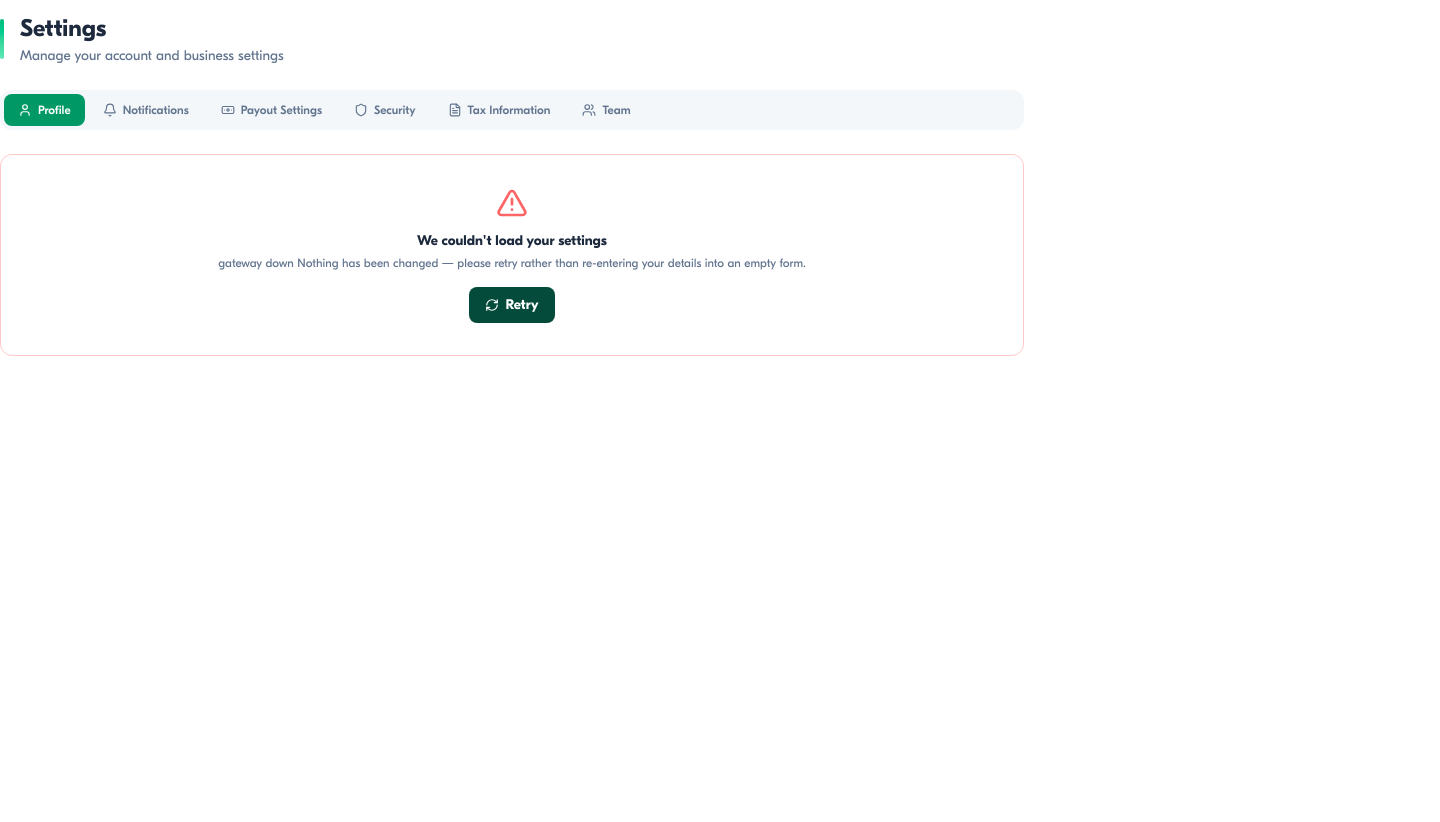
when the settings fetch fails › retries when asked, and renders the forms once the load succeeds
Expected: the message is shown, [0,154,1024,356]
Click the button "Retry": [512, 305] box [469,287,555,323]
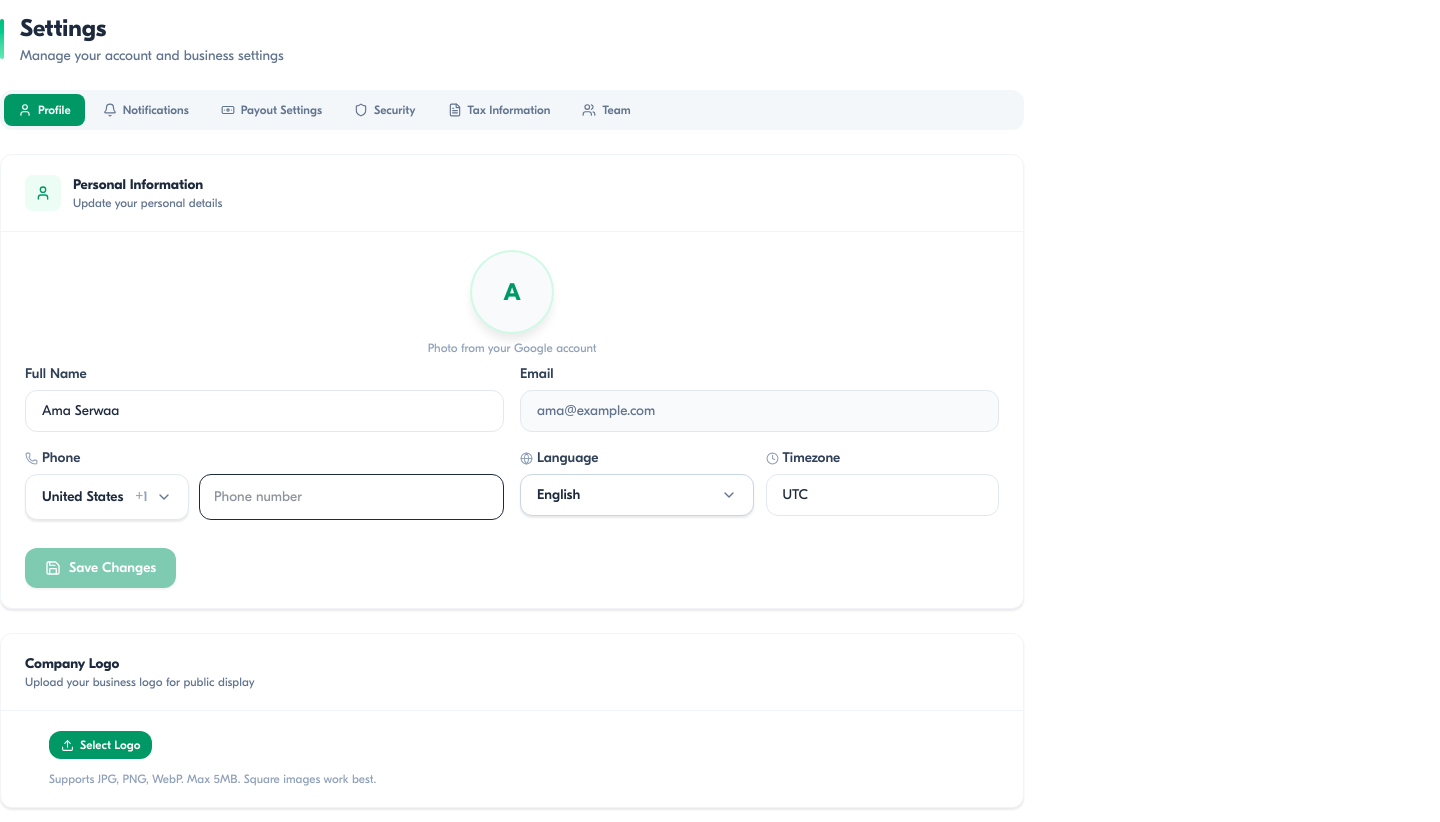
Now the message is gone
Now the heading "Personal Information" is shown, box [73,175,222,195]
